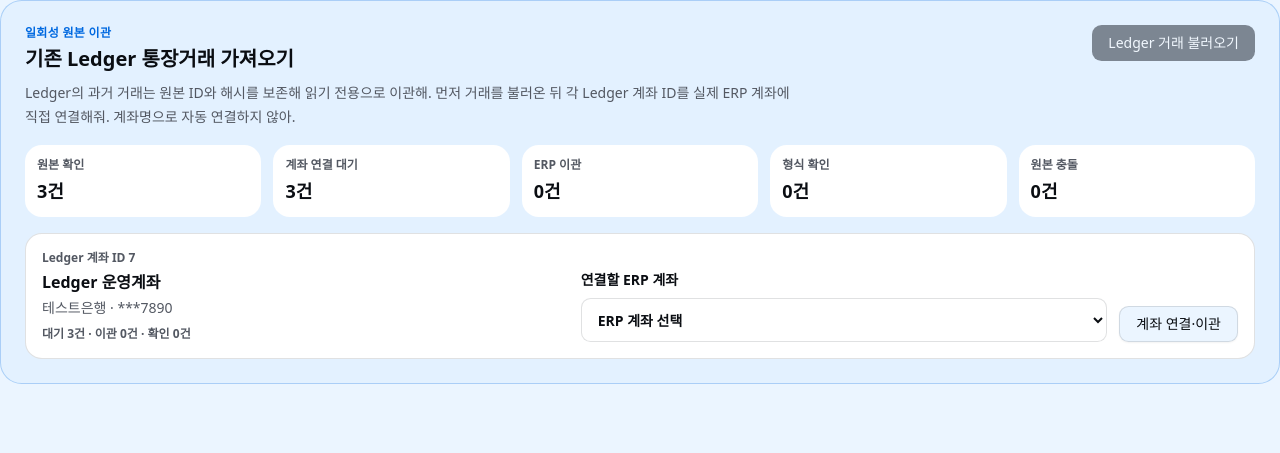
Scenario: LedgerBankBackfillPanel › requires an explicit ERP account ID mapping before importing staged rows
Expected: the text "Ledger 계좌 ID 7" is shown, 42,249 -> 136,266
Expected: the text "테스트은행 · ***7890" is shown, 42,298 -> 173,317
Select "테스트은행 · ERP 운영계좌 · ***3210" in the dropdown named "Ledger 계좌 7의 ERP 계좌" at (844, 320), box 581,298 -> 1107,342
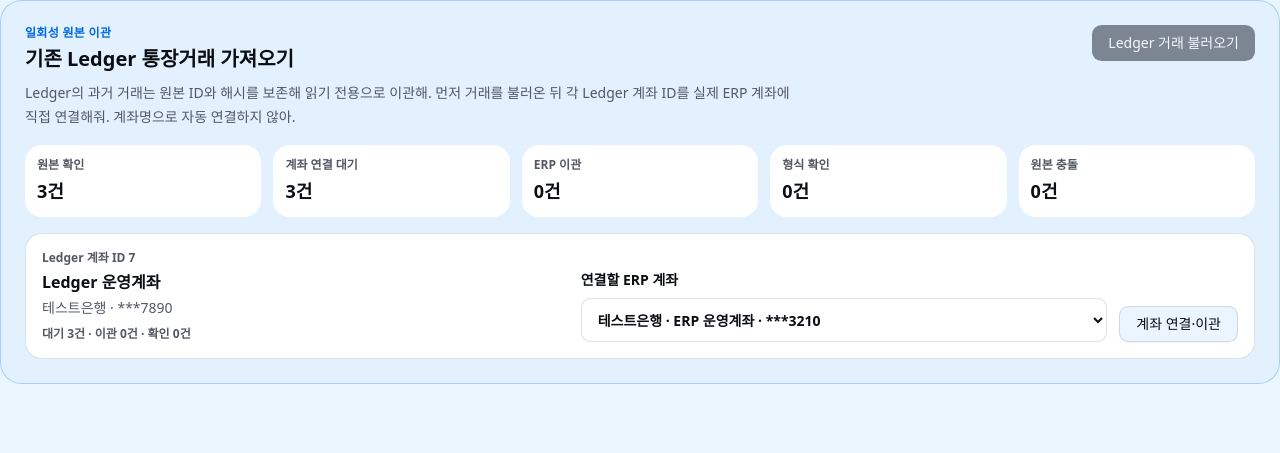
Click the button "계좌 연결·이관" at (1179, 324), box 1119,306 -> 1238,342
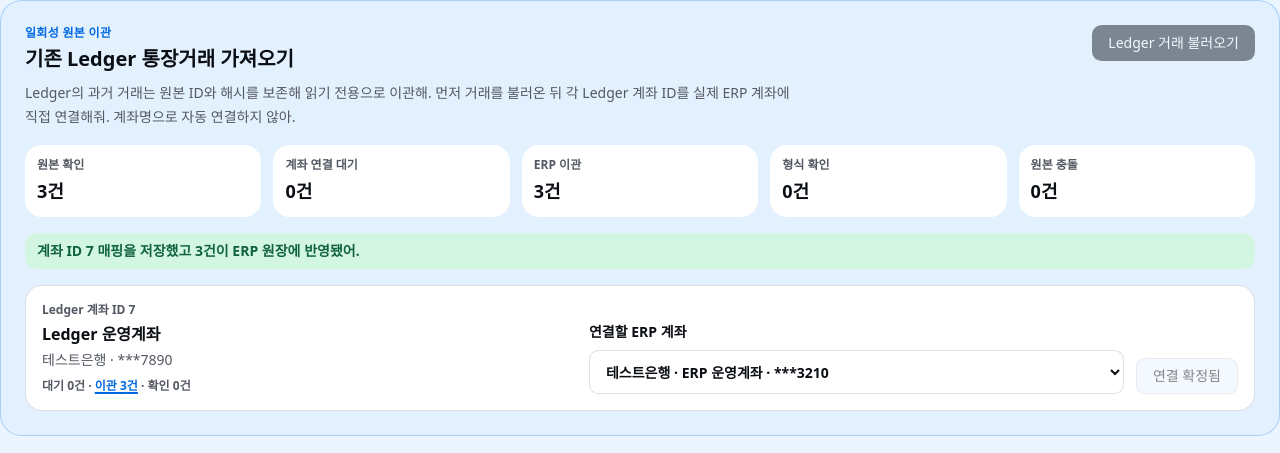
Now the text "계좌 ID 7 매핑을 저장했고 3건이 ERP 원장에 반영됐어." is shown, box 25,233 -> 1255,269
Now the button "연결 확정됨" is disabled, box 1136,358 -> 1238,394
